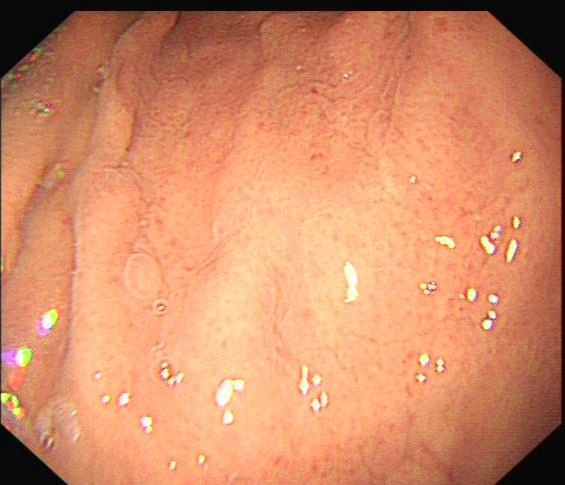Polyp: (114, 245, 178, 309)
